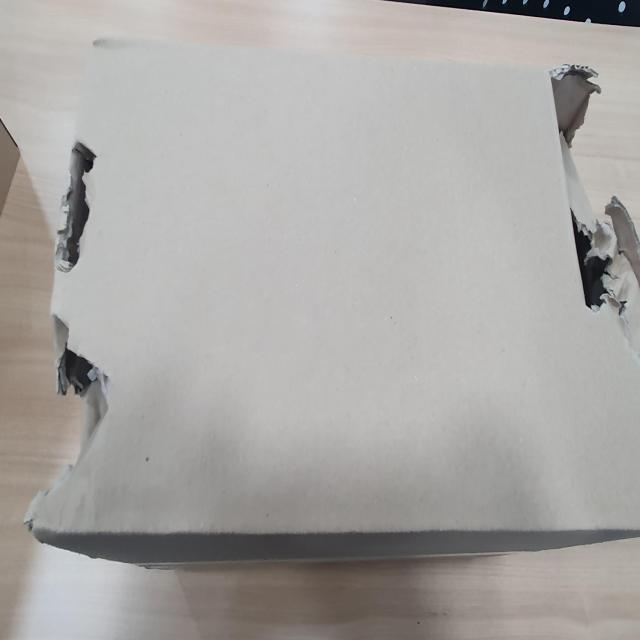damaged: (202, 95, 282, 195), (131, 97, 185, 192)
